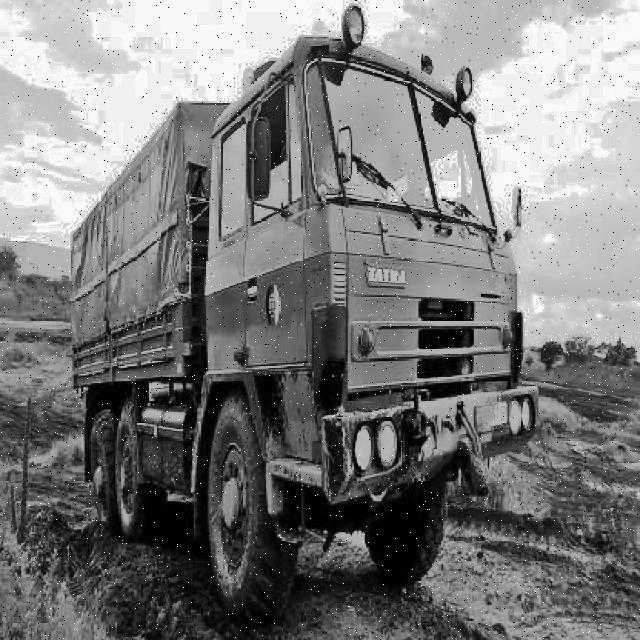HCV: (61, 86, 522, 632)
